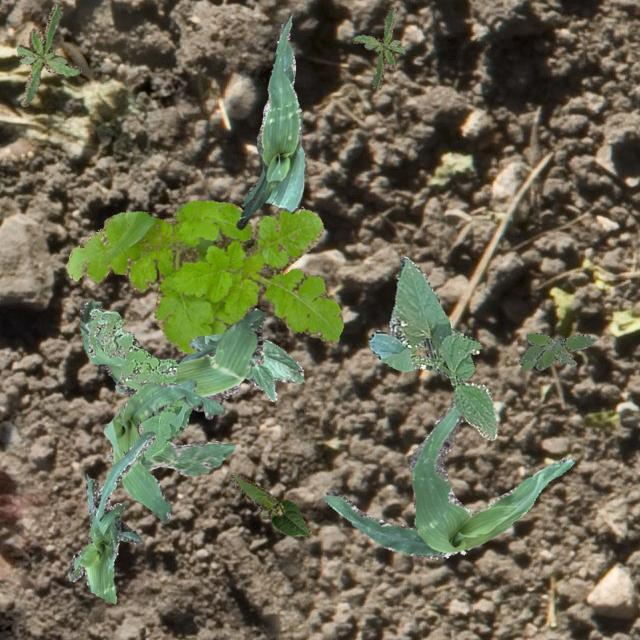crop: (322, 398, 572, 558), (368, 256, 497, 440), (78, 298, 264, 402), (103, 379, 225, 522), (66, 428, 154, 602), (236, 12, 304, 228), (189, 332, 303, 400), (228, 472, 310, 536), (105, 440, 234, 476)
weed: (65, 198, 342, 354), (88, 306, 192, 458), (15, 2, 80, 106), (351, 5, 404, 90), (518, 332, 596, 369), (114, 382, 126, 392)
